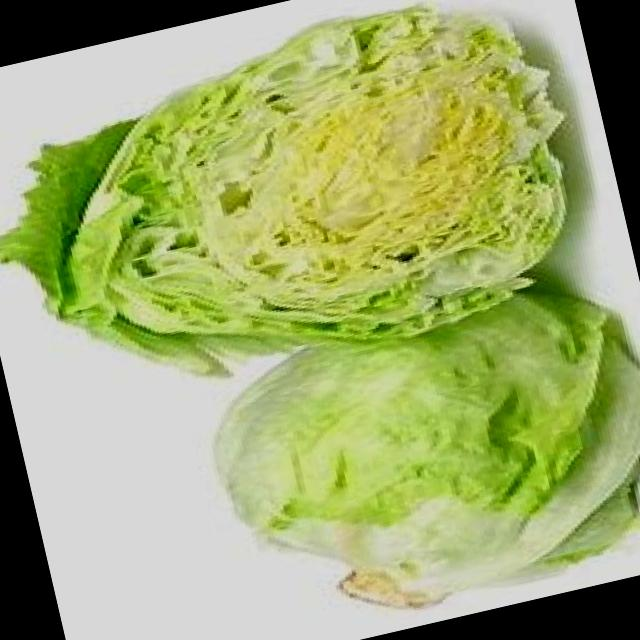cabbage: (0, 0, 601, 424), (189, 264, 640, 640)
